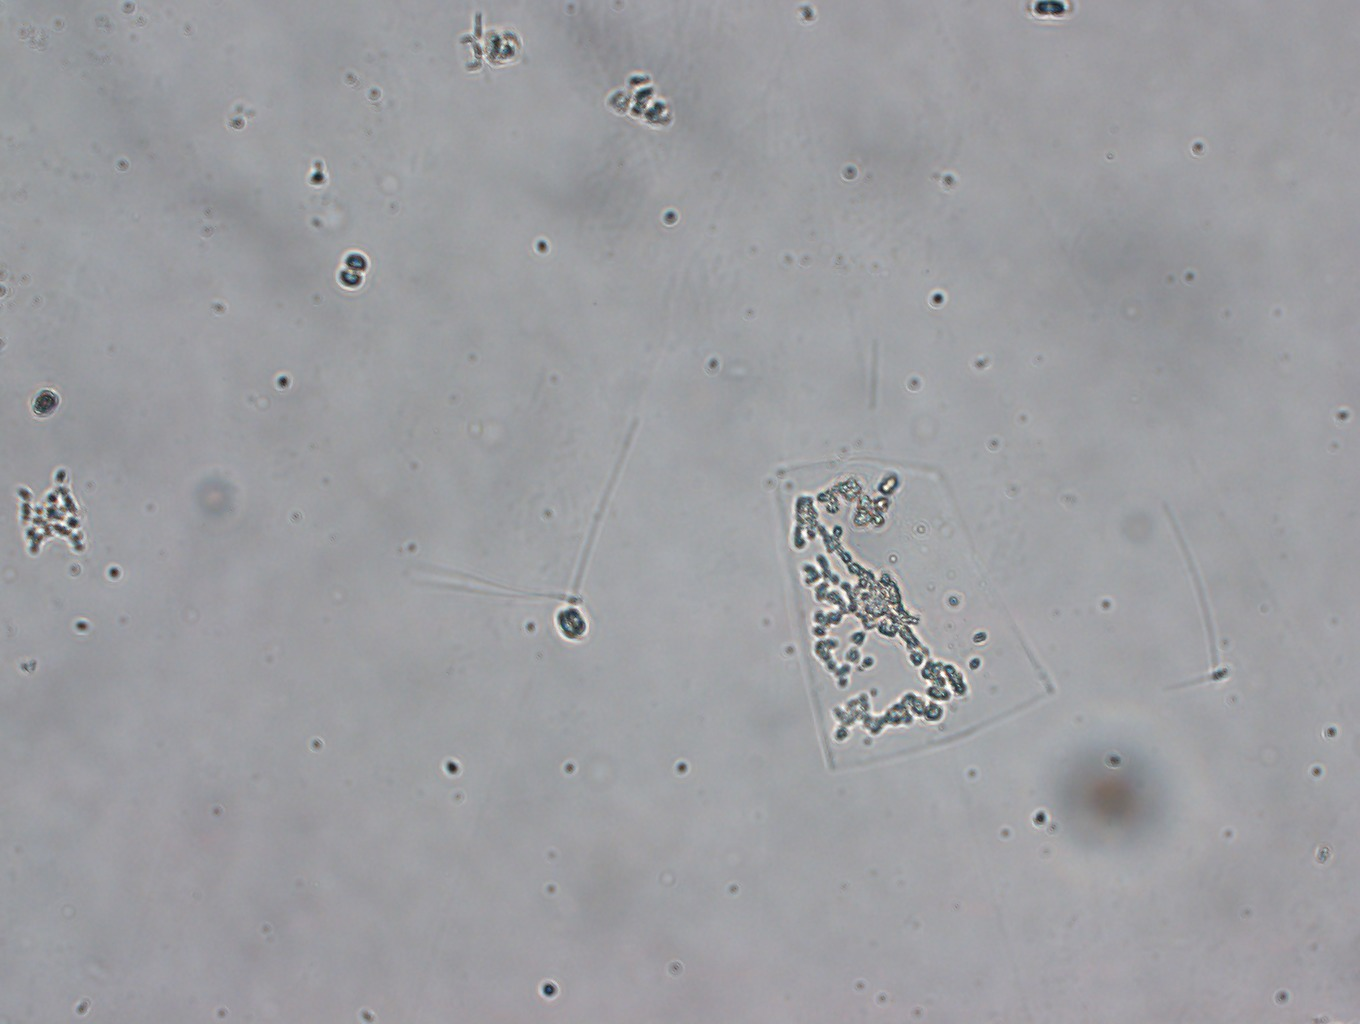chaetoceros: (416, 416, 645, 642)
helicotheca: (772, 460, 1056, 773)
